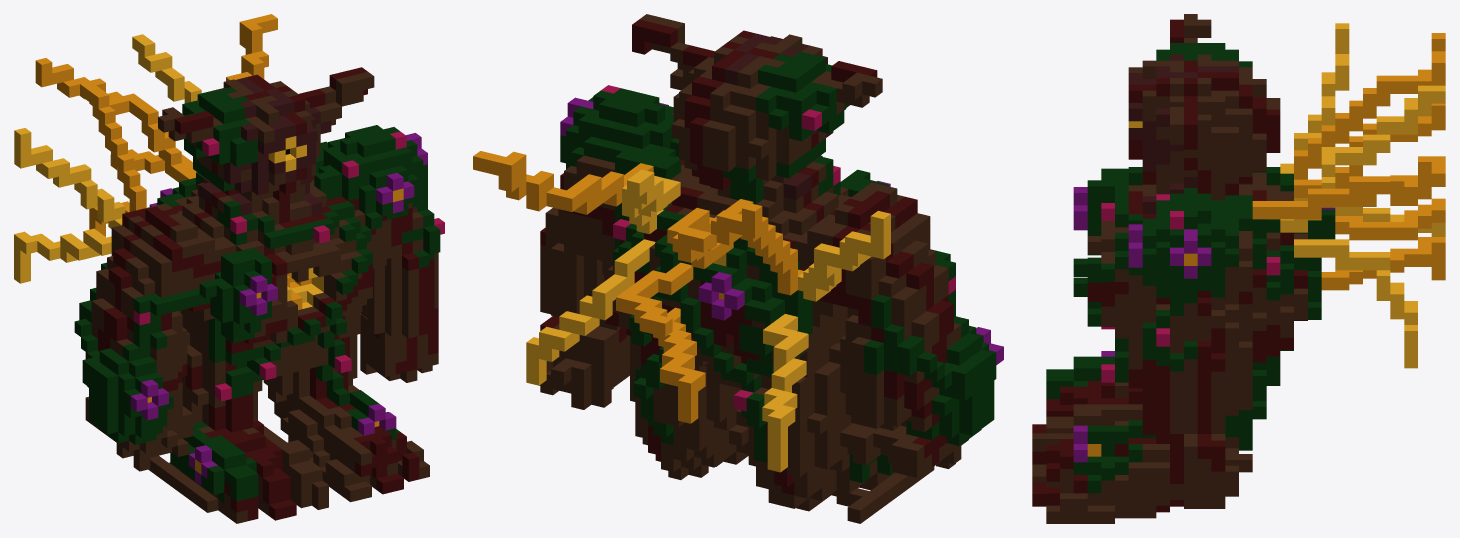
Rendered from Juan_Sebastian_Rocha_Ballen_fase_4.obj.
3 renders of one model, left to right at view 1: azimuth 30°, elevation 25°; view 2: azimuth 150°, elevation 25°; view 3: azimuth 270°, elevation 25°, orthographic. The views are drawn at different scales.
Parts seen in each view (by area): view 1: Juan_Sebastian_Rocha_Ballen_fase_4; view 2: Juan_Sebastian_Rocha_Ballen_fase_4; view 3: Juan_Sebastian_Rocha_Ballen_fase_4.
Boxes of the visible parts, <box> form: Juan_Sebastian_Rocha_Ballen_fase_4: <box>14,14,444,523</box>; Juan_Sebastian_Rocha_Ballen_fase_4: <box>473,14,1003,523</box>; Juan_Sebastian_Rocha_Ballen_fase_4: <box>1032,14,1445,523</box>.
Bounding box in the file's own units: 32 × 32 × 30.
Materials: 1 (1 with a texture image).
